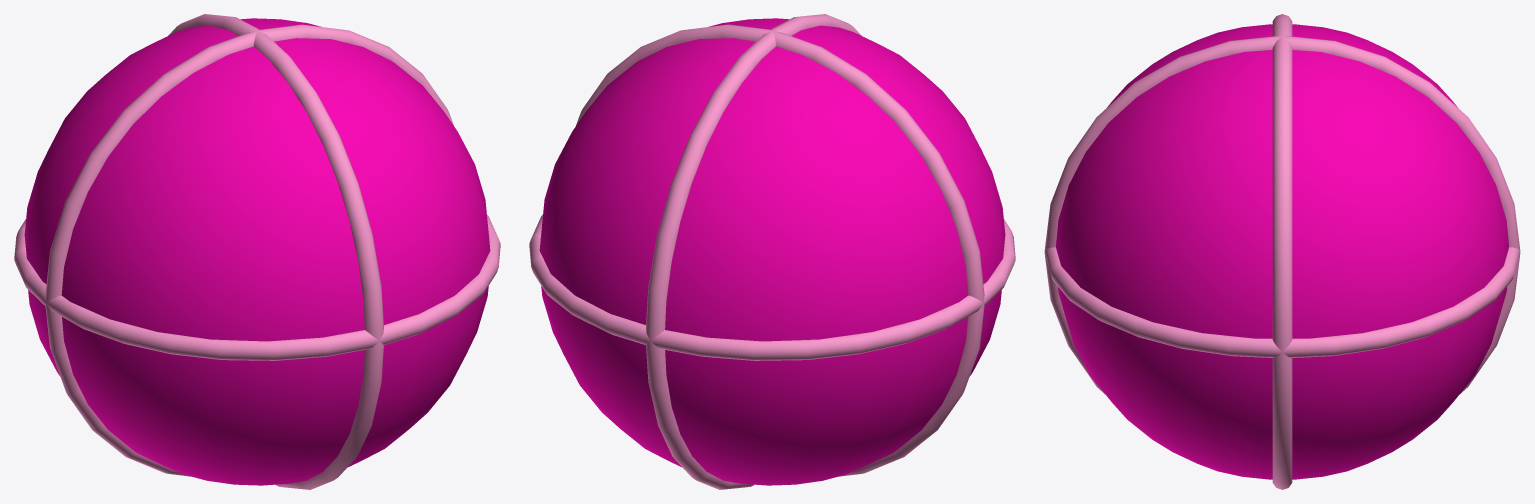
Rendered from VM-ACC-EXT137.glb.
The picture shows the model from 3 angles, left to right: view 1: azimuth 30°, elevation 25°; view 2: azimuth 150°, elevation 25°; view 3: azimuth 270°, elevation 25°; orthographic projection. The views are drawn at different scales.
Visible parts, largest first — view 1: Balón de Fútbol Americano; view 2: Balón de Fútbol Americano; view 3: Balón de Fútbol Americano.
Boxes of the visible parts, bbox=[...] form: Balón de Fútbol Americano: bbox=[14, 14, 500, 489]; Balón de Fútbol Americano: bbox=[529, 14, 1015, 489]; Balón de Fútbol Americano: bbox=[1044, 14, 1520, 489].
Size of the model in its own units: 0.2216 by 0.2216 by 0.2216.
